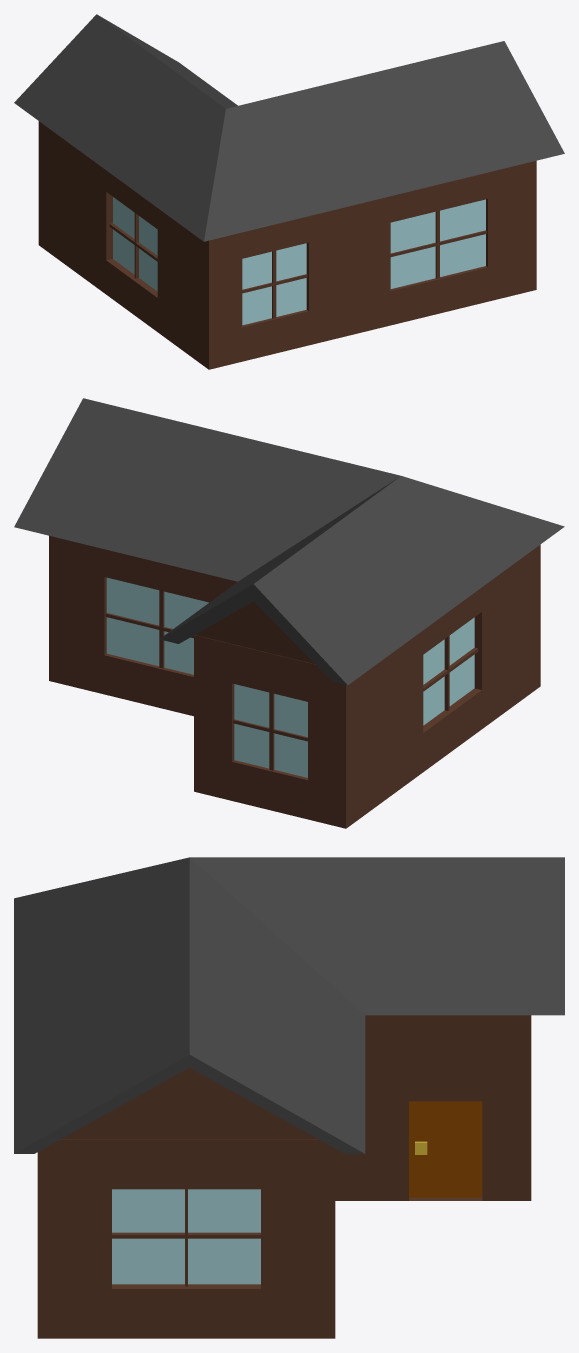
Rendered from LHouse.gltf.
3 views of the same model, one above another, from view 1: azimuth 30°, elevation 25°; view 2: azimuth 150°, elevation 25°; view 3: azimuth 270°, elevation 25° (orthographic). The views are drawn at different scales.
Visible parts, largest first — view 1: L-Shape; view 2: L-Shape; view 3: L-Shape.
Part boxes in pixels (x1,y1,x2,y2): L-Shape: (14, 14, 564, 369); L-Shape: (14, 398, 564, 828); L-Shape: (14, 857, 564, 1338).
Size of the model in its own units: 19.29 by 10.5 by 17.57.
